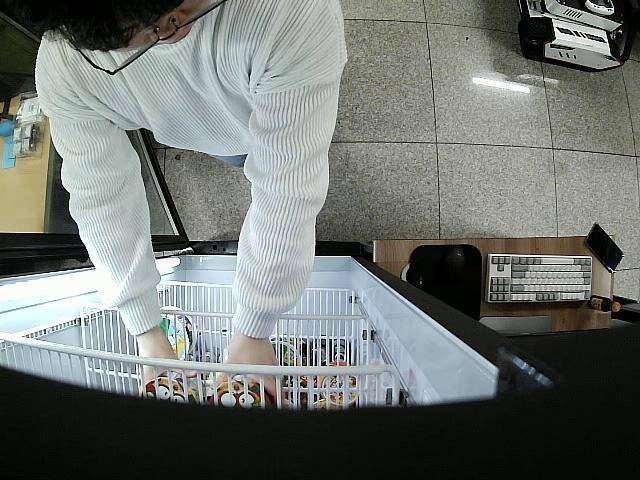06_nuguri_S: (210, 378, 274, 408), (138, 375, 192, 406)
